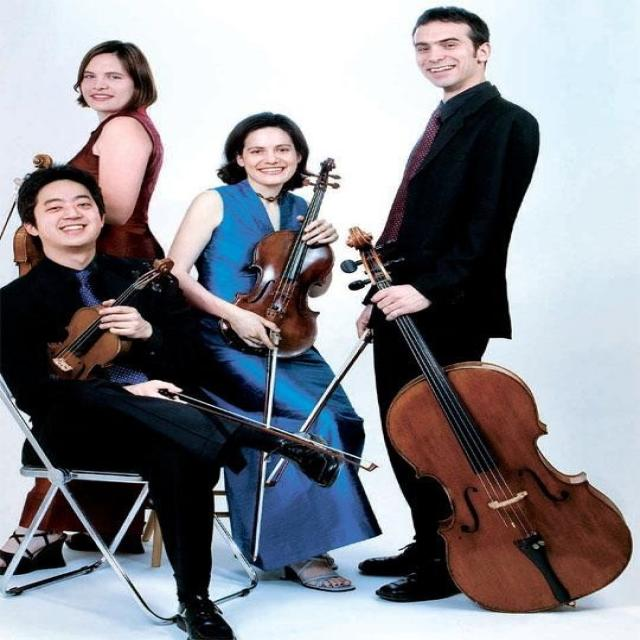cello: (346, 226, 636, 610)
violin: (218, 158, 342, 359), (38, 257, 176, 384), (6, 150, 61, 282)
